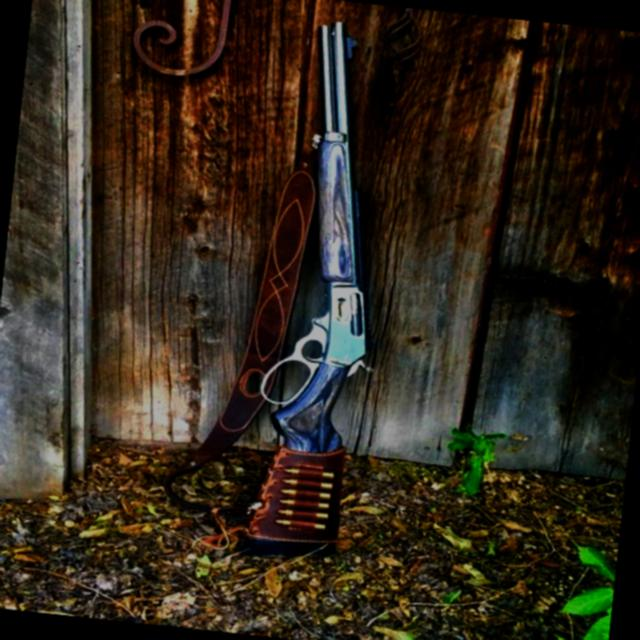shotgun: (146, 0, 431, 631)
